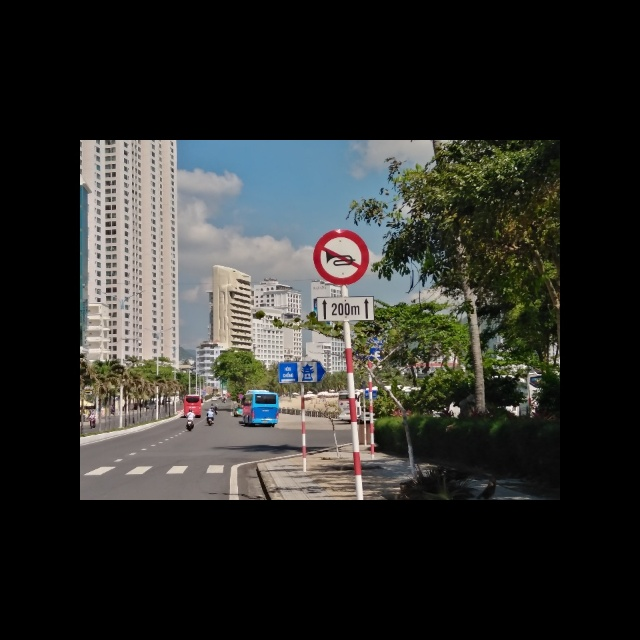Cấm bấm còi: (311, 229, 368, 285)
